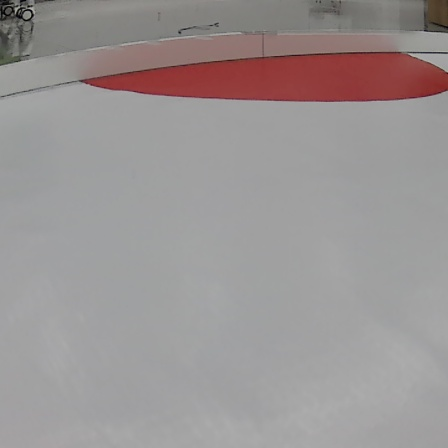red_base: (75, 51, 448, 105)
